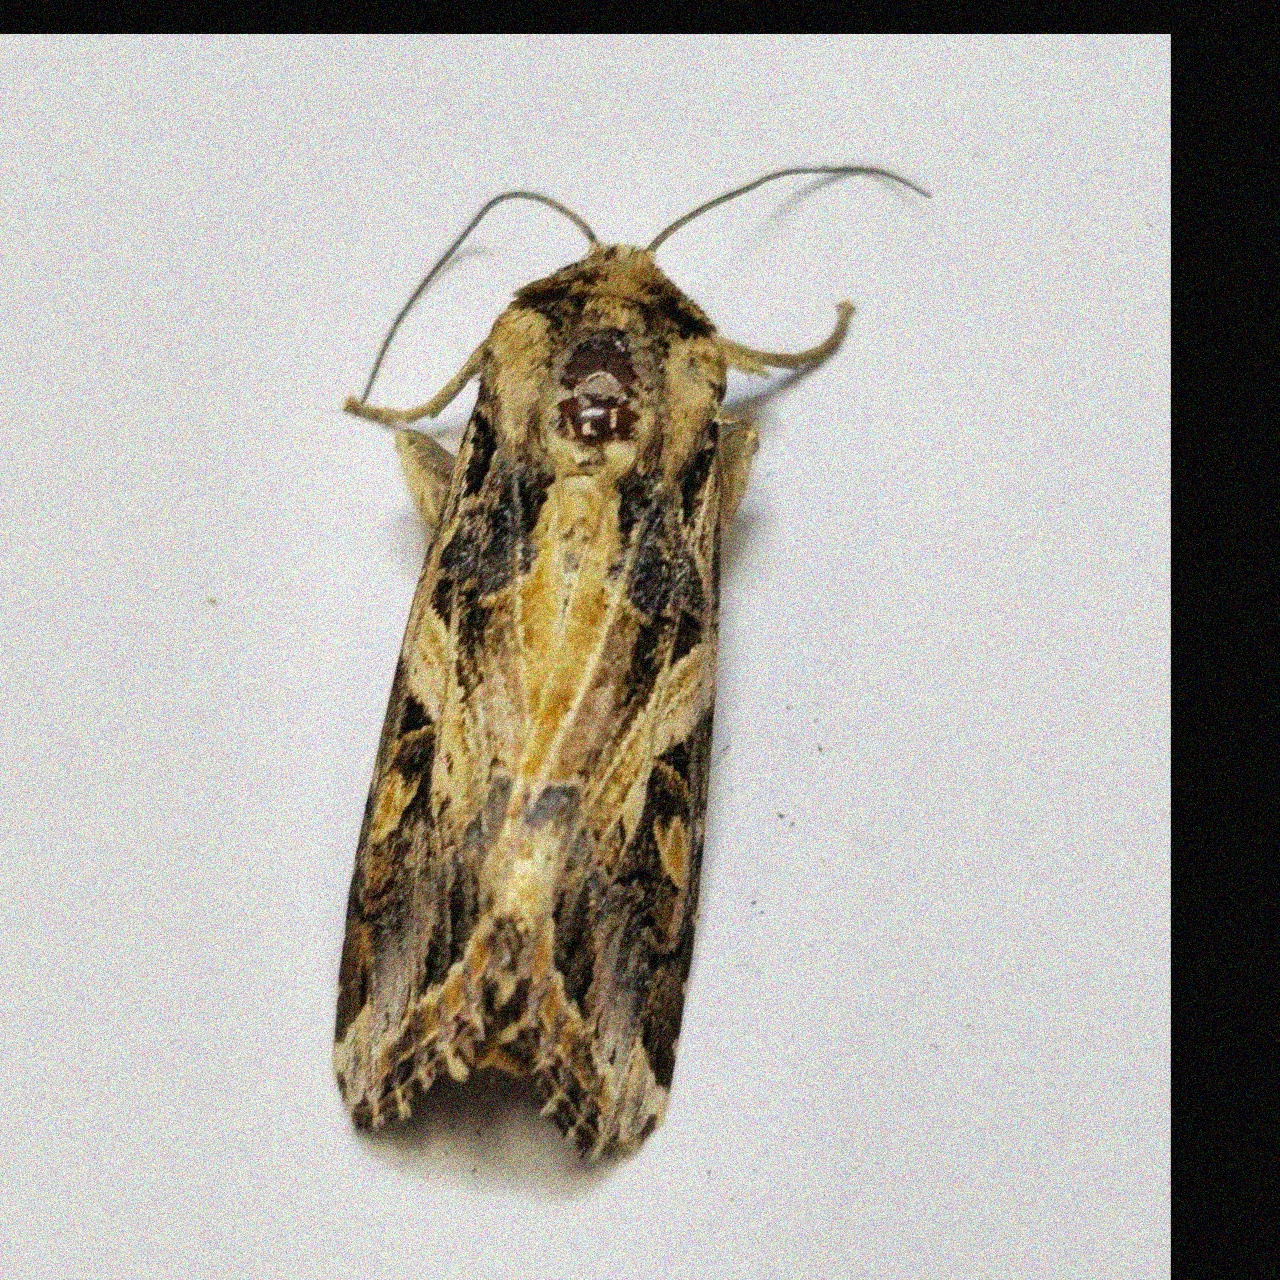Spodoptera litura: (331, 161, 933, 1166)
